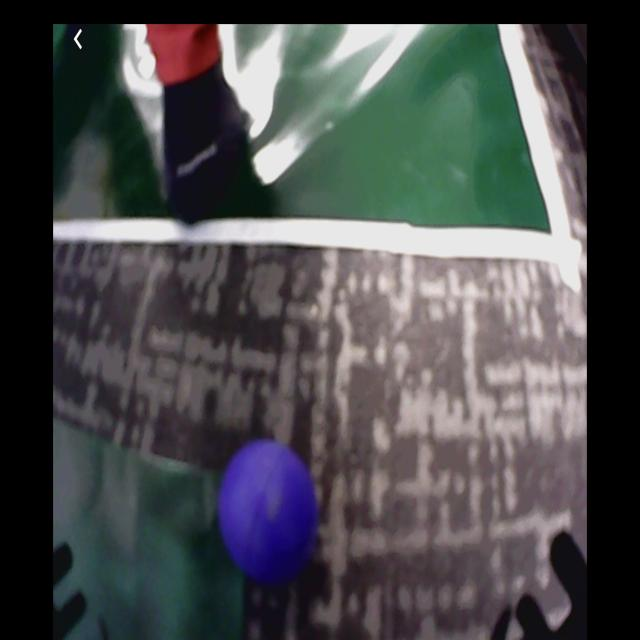ball: (221, 439, 317, 587)
